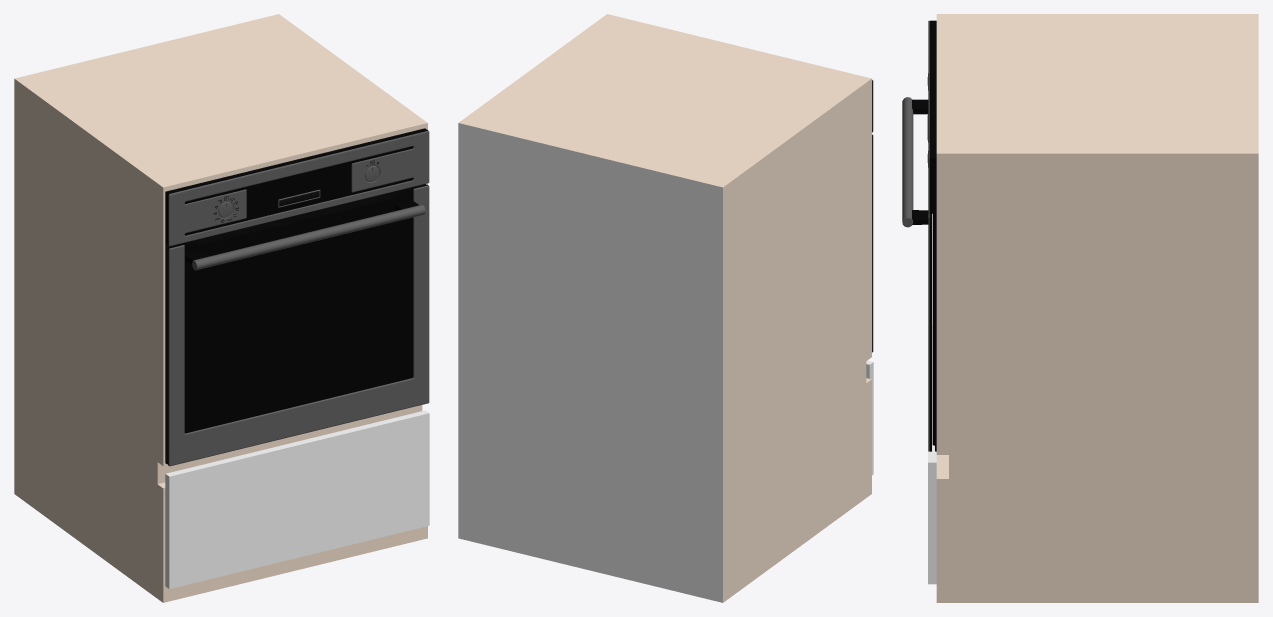
The model's file is KTCH_ELIX_Cabinet_60_60_90_Oven.FBX.
3 renders of one model, left to right at view 1: azimuth 30°, elevation 25°; view 2: azimuth 150°, elevation 25°; view 3: azimuth 270°, elevation 25°, orthographic. The views are drawn at different scales.
Parts seen in each view (by area): view 1: KTCH_ELIX_Cabinet_60_60_90_Oven; view 2: KTCH_ELIX_Cabinet_60_60_90_Oven; view 3: KTCH_ELIX_Cabinet_60_60_90_Oven.
Part boxes in pixels (x1,y1,x2,y2): KTCH_ELIX_Cabinet_60_60_90_Oven: (14,14,429,602); KTCH_ELIX_Cabinet_60_60_90_Oven: (458,14,873,602); KTCH_ELIX_Cabinet_60_60_90_Oven: (902,14,1258,602).
Bounding box in the file's own units: 60 × 64.69 × 90.
